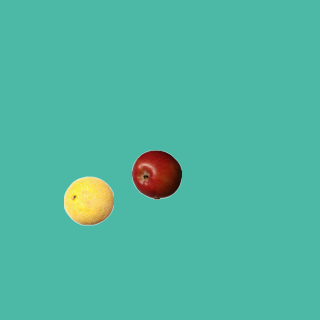Apple Braeburn: (131, 149, 181, 199)
Cantaloupe 1: (63, 175, 113, 225)
